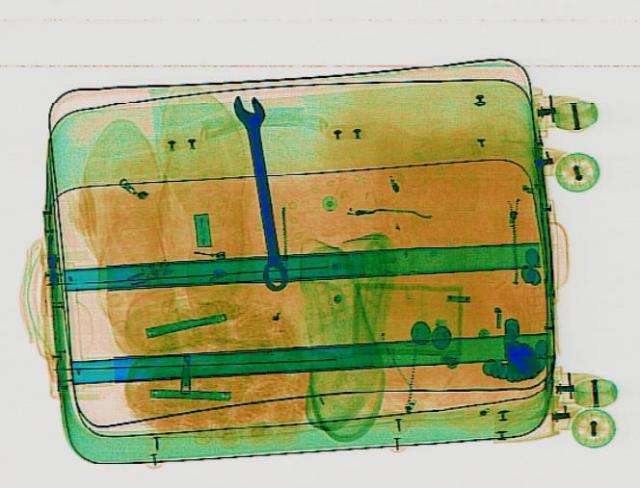Wrench: (228, 91, 292, 291)
